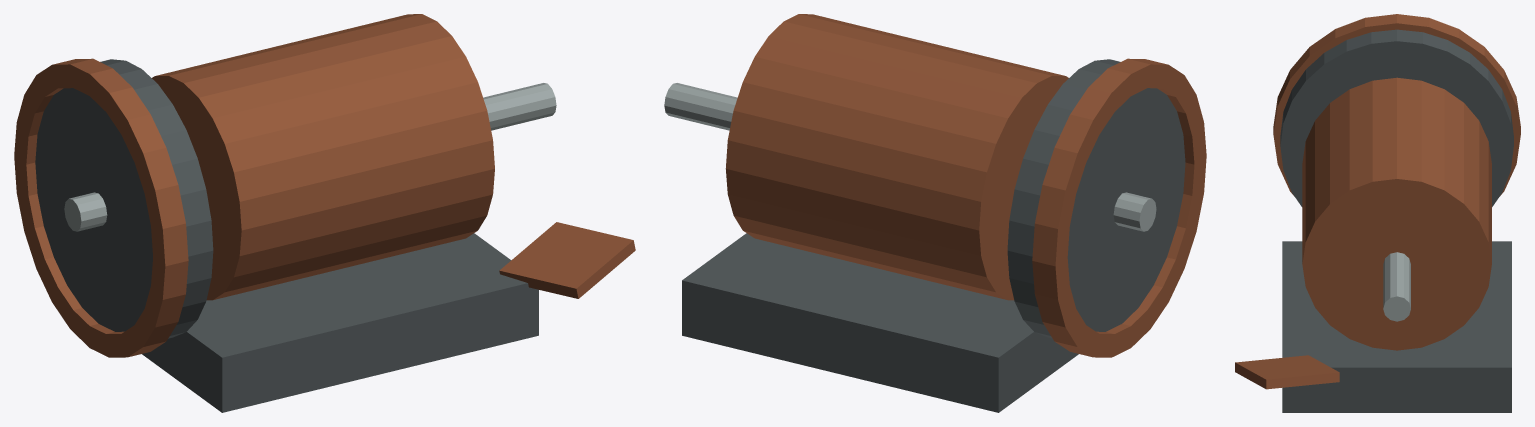
File: SHOP_OldGrinder.glb
3 renders of one model, left to right at view 1: azimuth 30°, elevation 25°; view 2: azimuth 150°, elevation 25°; view 3: azimuth 270°, elevation 25°, orthographic. The views are drawn at different scales.
Parts seen in each view (by area): view 1: Motor, Base, WornWheel, BrokenGuard, LooseToolRest, Spindle; view 2: Motor, Base, WornWheel, BrokenGuard, Spindle; view 3: Motor, Base, WornWheel, BrokenGuard, LooseToolRest, Spindle.
Boxes of the visible parts, x1,y1,x2,y2 form: Motor: (152, 14, 494, 300); Base: (142, 233, 538, 412); WornWheel: (35, 59, 213, 338); BrokenGuard: (14, 58, 188, 357); LooseToolRest: (499, 222, 635, 298); Spindle: (64, 83, 556, 231); Motor: (725, 14, 1068, 300); Base: (682, 233, 1078, 412); WornWheel: (1007, 59, 1185, 338); BrokenGuard: (1032, 58, 1206, 357); Spindle: (664, 83, 1156, 231); Motor: (1302, 77, 1491, 350); Base: (1282, 241, 1511, 412); WornWheel: (1280, 29, 1513, 206); BrokenGuard: (1273, 14, 1520, 196); LooseToolRest: (1235, 355, 1339, 389); Spindle: (1383, 252, 1410, 321).
Size of the model in its own units: 0.4574 by 0.274 by 0.2864.
